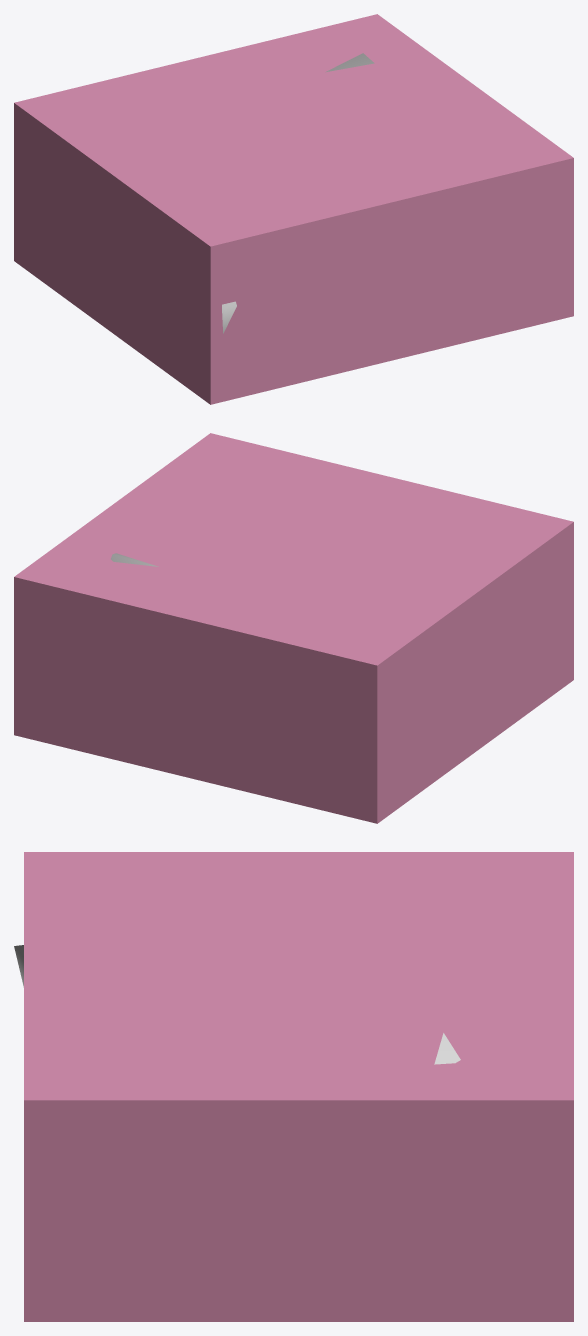
Rendered from rock_01_a_small_a.dae.
3 renders of one model, top to bottom at view 1: azimuth 30°, elevation 25°; view 2: azimuth 150°, elevation 25°; view 3: azimuth 270°, elevation 25°, orthographic. The views are drawn at different scales.
Visible parts, largest first — view 1: Untitled, tree_oak_bush_a20; view 2: Untitled; view 3: Untitled, tree_oak_bush_a20.
Part boxes in pixels (x1,y1,x2,y2): Untitled: (14, 14, 573, 404); tree_oak_bush_a20: (222, 53, 374, 333); Untitled: (14, 433, 573, 823); Untitled: (24, 852, 573, 1321); tree_oak_bush_a20: (14, 945, 460, 1064).
Bounding box in the file's own units: 0.4672 × 0.4455 × 0.2013.
